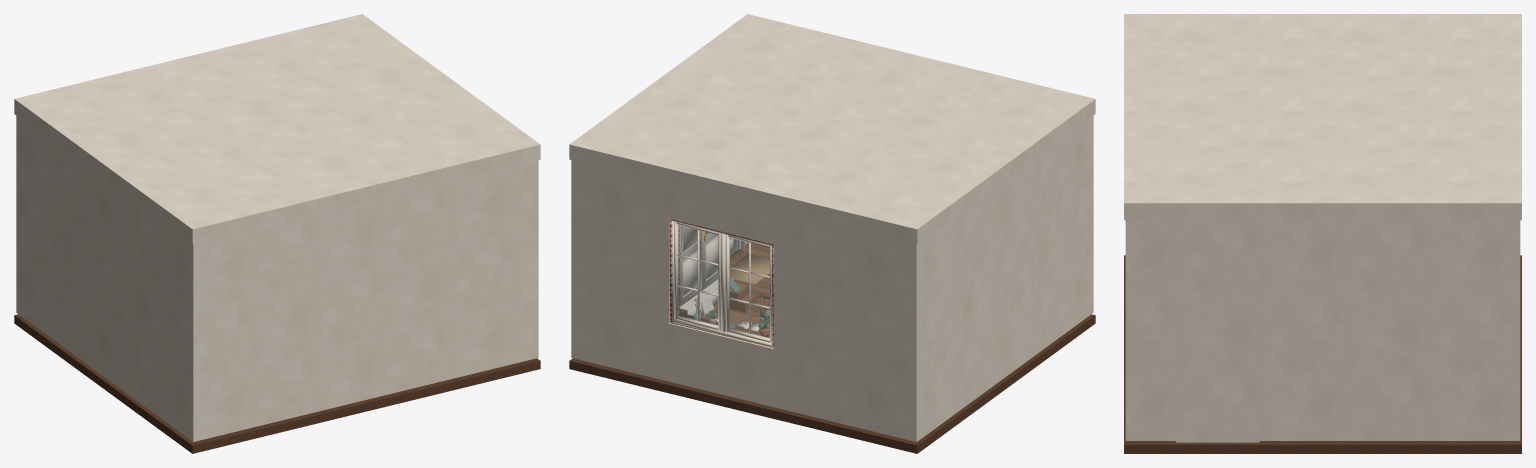
The model's file is GirlBedroom.glb.
The picture shows the model from 3 angles, left to right: view 1: azimuth 30°, elevation 25°; view 2: azimuth 150°, elevation 25°; view 3: azimuth 270°, elevation 25°; orthographic projection. The views are drawn at different scales.
Parts seen in each view (by area): view 1: Arch_Shell_Opaque; view 2: Arch_Shell_Opaque, Arch_ClosedWindowGlass, Furn_WardrobeSet, Props_RoomDressing, Furn_StudyDeskSet; view 3: Arch_Shell_Opaque.
Boxes of the visible parts, <box> form: Arch_Shell_Opaque: <box>14,14,540,453</box>; Arch_Shell_Opaque: <box>569,14,1095,453</box>; Arch_ClosedWindowGlass: <box>677,225,769,338</box>; Furn_WardrobeSet: <box>679,227,733,316</box>; Props_RoomDressing: <box>694,254,769,337</box>; Furn_StudyDeskSet: <box>702,293,769,334</box>; Arch_Shell_Opaque: <box>1124,14,1521,453</box>.
Size of what is drawn, in the model's own units: 5.32 by 3.28 by 4.72.
52 materials, 25 textured.
